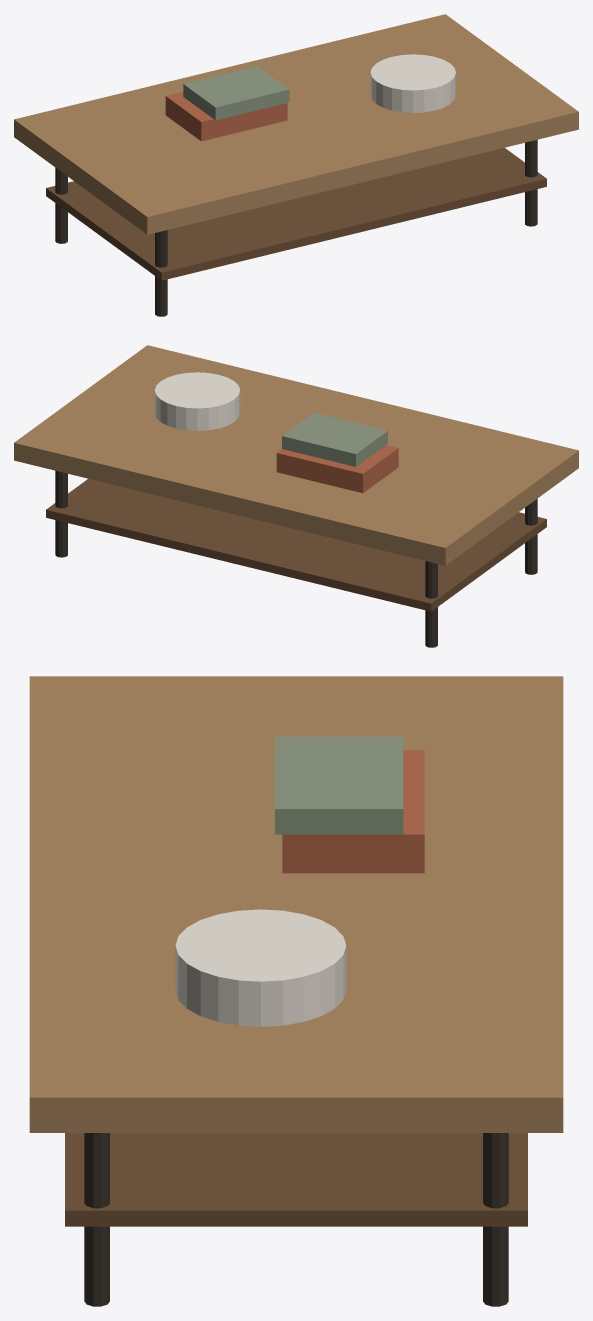
3 views of the same model, one above another, from view 1: azimuth 30°, elevation 25°; view 2: azimuth 150°, elevation 25°; view 3: azimuth 270°, elevation 25° (orthographic). The views are drawn at different scales.
Parts seen in each view (by area): view 1: coffee-table; view 2: coffee-table; view 3: coffee-table.
Boxes of the visible parts, <box> form: coffee-table: <box>14,14,578,316</box>; coffee-table: <box>14,345,578,647</box>; coffee-table: <box>29,676,563,1306</box>.
Size of the model in its own units: 1.4 by 0.465 by 0.75.
